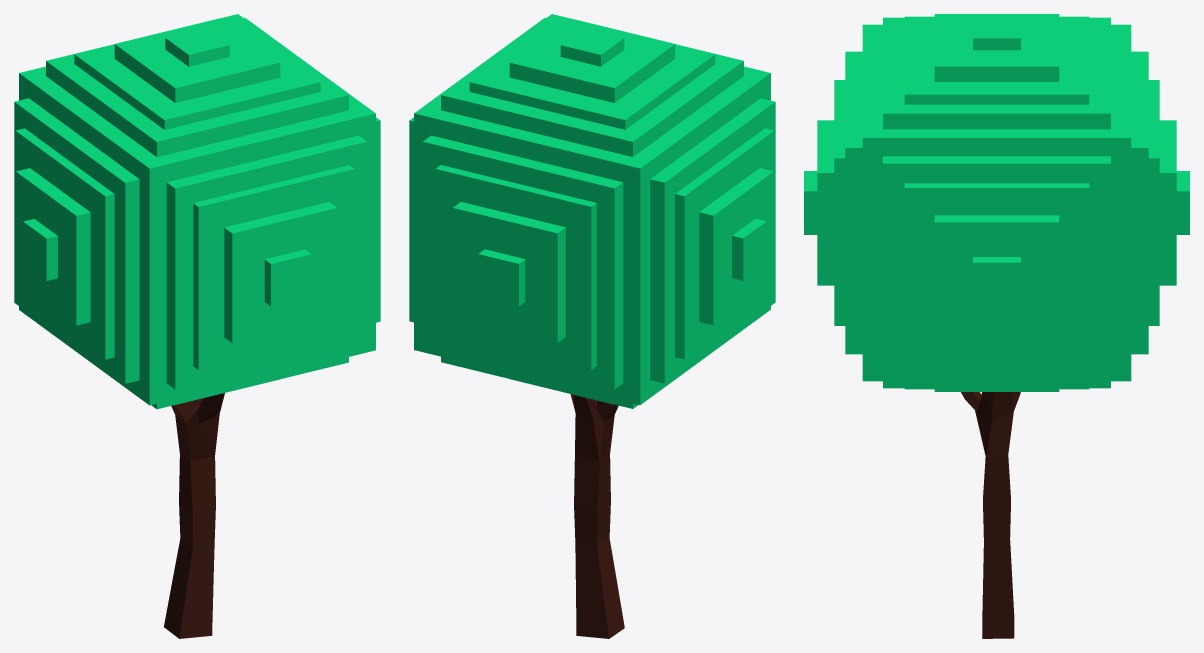
The model's file is box_tree.fbx.
3 renders of one model, left to right at view 1: azimuth 30°, elevation 25°; view 2: azimuth 150°, elevation 25°; view 3: azimuth 270°, elevation 25°, orthographic. The views are drawn at different scales.
Parts seen in each view (by area): view 1: box_tree; view 2: box_tree; view 3: box_tree.
Part boxes in pixels (bbox=[...]): box_tree: bbox=[14, 14, 380, 638]; box_tree: bbox=[409, 14, 775, 638]; box_tree: bbox=[804, 14, 1189, 638].
Bounding box in the file's own units: 187 × 324 × 187.
